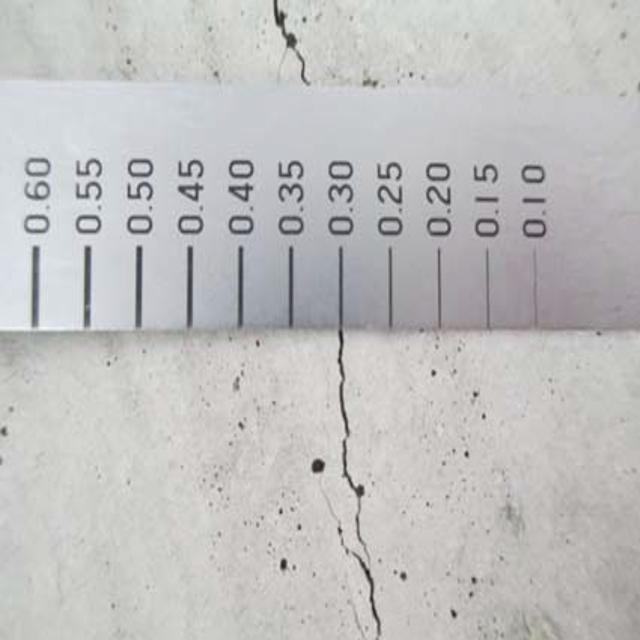crack: (314, 340, 399, 639), (261, 1, 336, 96)
